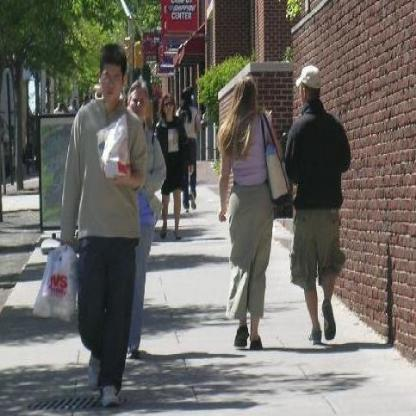person: (51, 44, 141, 406), (283, 58, 359, 348), (210, 76, 288, 350)
